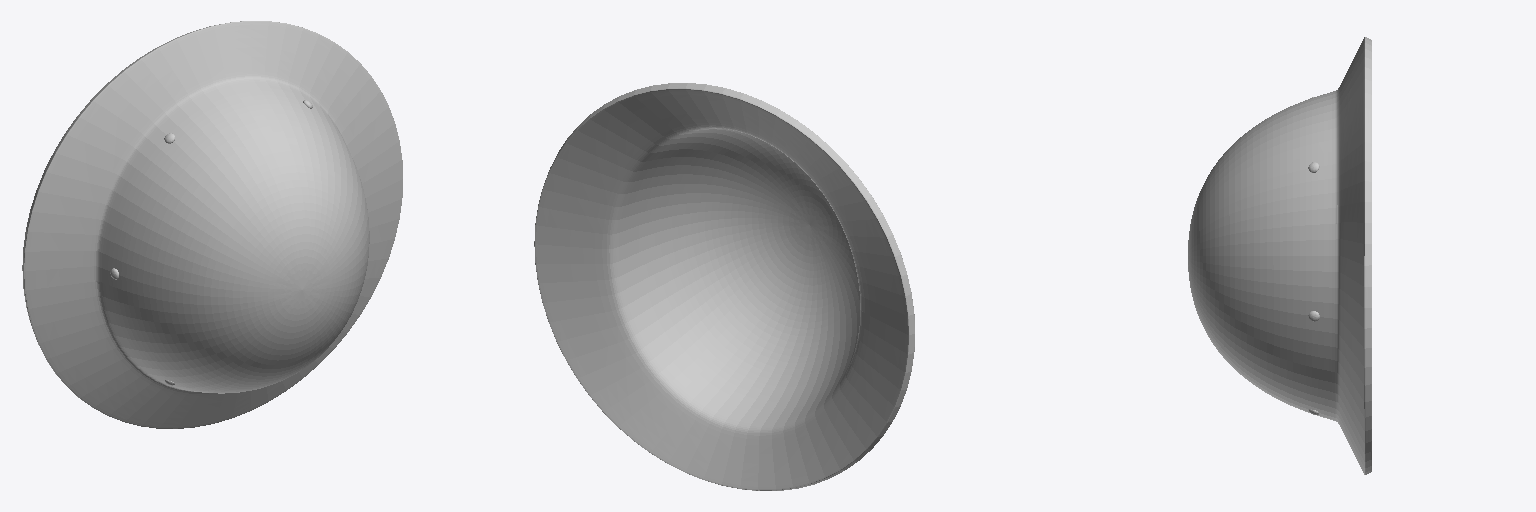
Rendered from helmet.obj.
3 views of the same model, side by side, from view 1: azimuth 30°, elevation 25°; view 2: azimuth 150°, elevation 25°; view 3: azimuth 270°, elevation 25° (orthographic).
Parts seen in each view (by area): view 1: 18601_Brodie_helmet; view 2: 18601_Brodie_helmet; view 3: 18601_Brodie_helmet.
Part boxes in pixels (x1,y1,x2,y2): 18601_Brodie_helmet: (22,21,402,428); 18601_Brodie_helmet: (534,83,914,490); 18601_Brodie_helmet: (1188,37,1371,474).
Size of the model in its own units: 24.81 by 24.87 by 10.47.